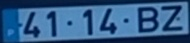1: (82, 7, 93, 37), (46, 10, 57, 38)
4: (21, 11, 41, 38), (98, 7, 117, 35)
B: (137, 6, 159, 34)
Z: (160, 4, 183, 32)
